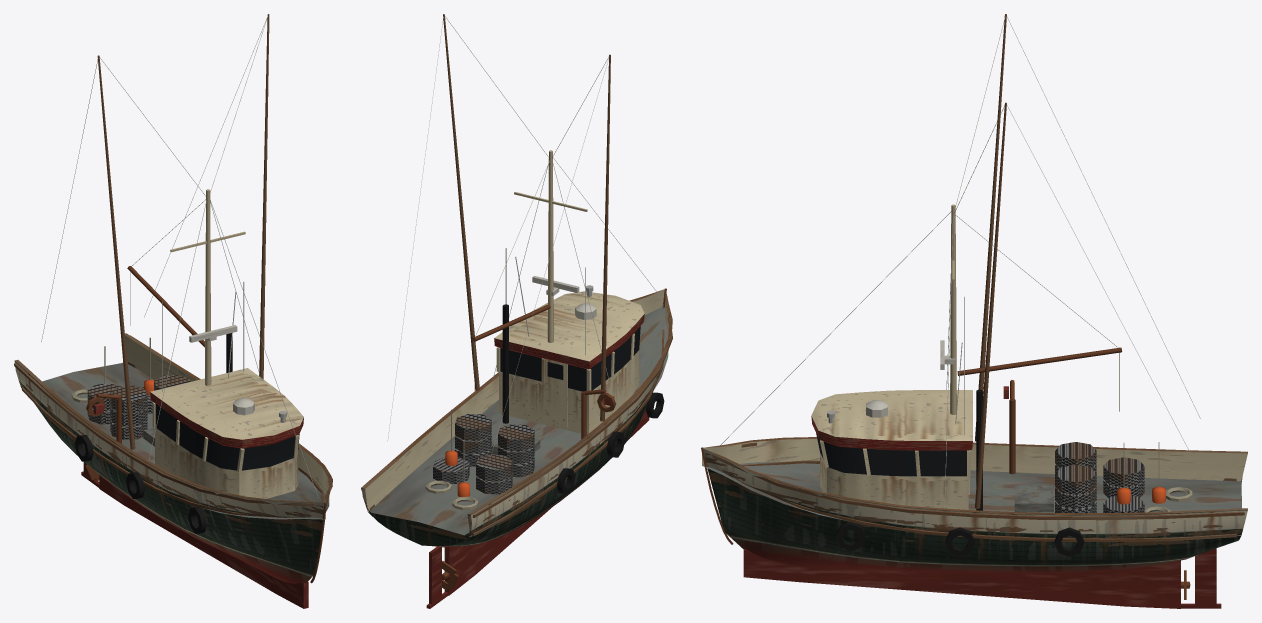
The model's file is fishingBoat-b-lod1.glb.
3 views of the same model, side by side, from view 1: azimuth 30°, elevation 25°; view 2: azimuth 150°, elevation 25°; view 3: azimuth 270°, elevation 25° (orthographic). The views are drawn at different scales.
Parts seen in each view (by area): view 1: Hull, Superstructure, Rig, Gear; view 2: Hull, Superstructure, Rig, Gear; view 3: Hull, Superstructure, Gear, Rig.
Boxes of the visible parts, x1=… form: Hull: x1=14, y1=333, x2=332, y2=608; Superstructure: x1=150, y1=368, x2=303, y2=498; Rig: x1=41, y1=14, x2=318, y2=497; Gear: x1=71, y1=337, x2=206, y2=533; Hull: x1=361, y1=288, x2=672, y2=608; Superstructure: x1=494, y1=291, x2=644, y2=434; Rig: x1=387, y1=14, x2=658, y2=465; Gear: x1=425, y1=389, x2=664, y2=509; Hull: x1=701, y1=437, x2=1247, y2=608; Superstructure: x1=811, y1=390, x2=972, y2=509; Gear: x1=835, y1=380, x2=1192, y2=556; Rig: x1=717, y1=14, x2=1200, y2=510.
Size of the model in its own units: 5.06 by 13.85 by 12.5.
Materials: 1 (1 with a texture image).
